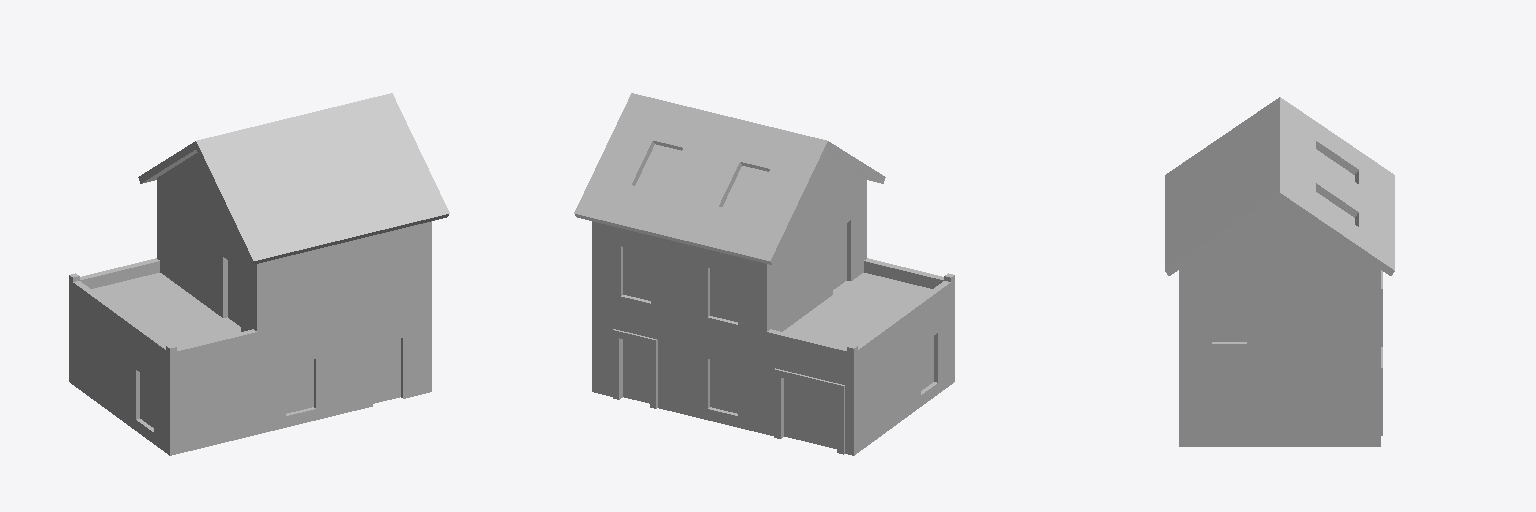
File: house_type18.obj
3 views of the same model, side by side, from view 1: azimuth 30°, elevation 25°; view 2: azimuth 150°, elevation 25°; view 3: azimuth 270°, elevation 25° (orthographic).
Visible parts, largest first — view 1: house_type18; view 2: house_type18; view 3: house_type18.
Part boxes in pixels (left/top/right/bottom): house_type18: left=69, top=93, right=449, bottom=455; house_type18: left=574, top=93, right=954, bottom=455; house_type18: left=1165, top=97, right=1394, bottom=446.
Size of the model in its own units: 1.25 by 1.14 by 0.916.